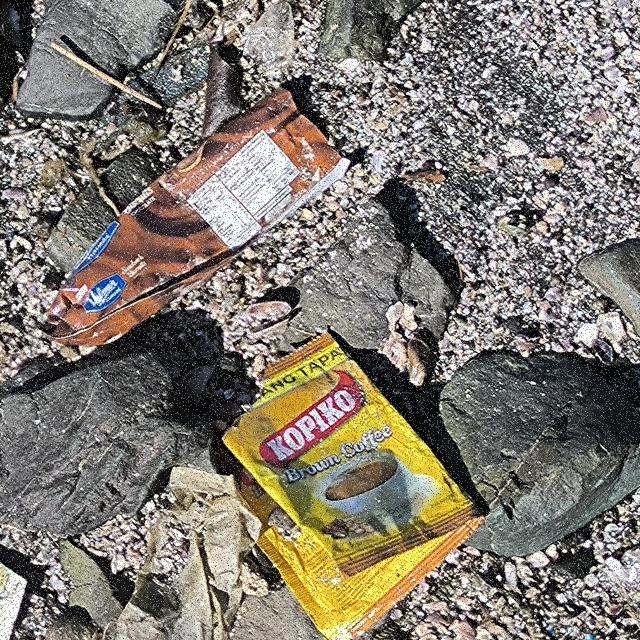plastic_waste: (221, 329, 489, 640), (46, 86, 353, 349)
